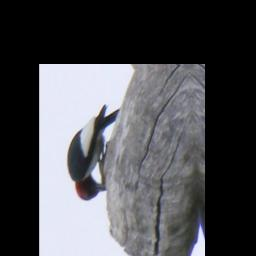Woodpecker: (61, 99, 128, 207)
